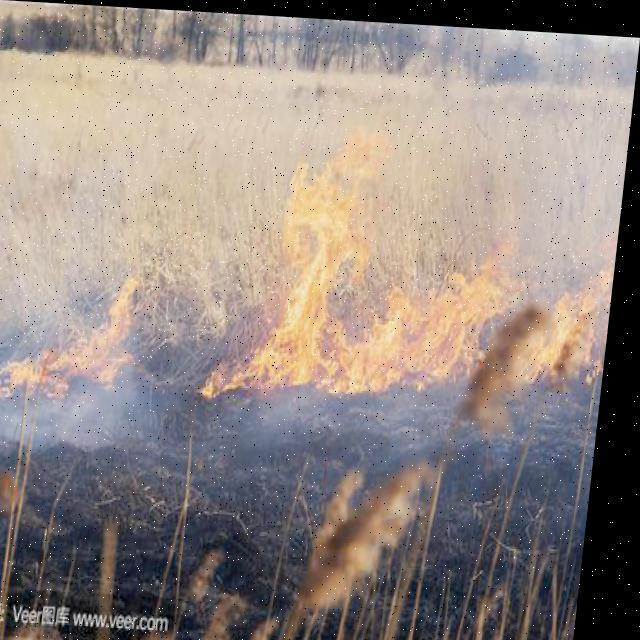Fire: (212, 123, 620, 412), (0, 266, 156, 428)
